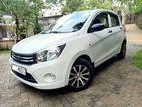car: (9, 9, 128, 93)
